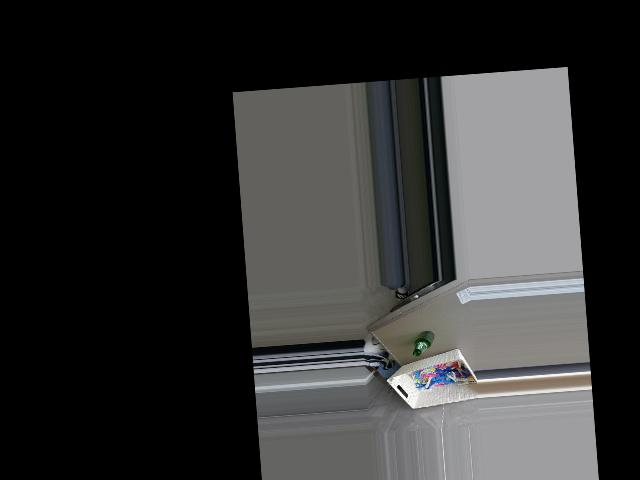beer: (410, 329, 435, 355)
